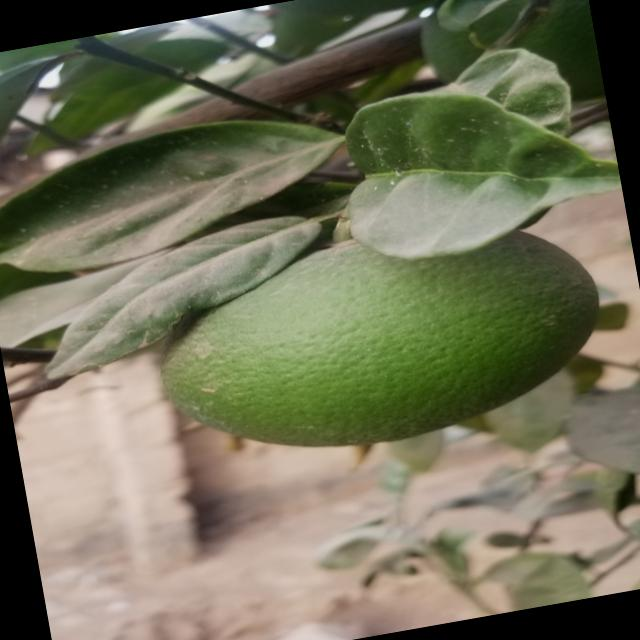Unripe: (155, 206, 612, 473)
